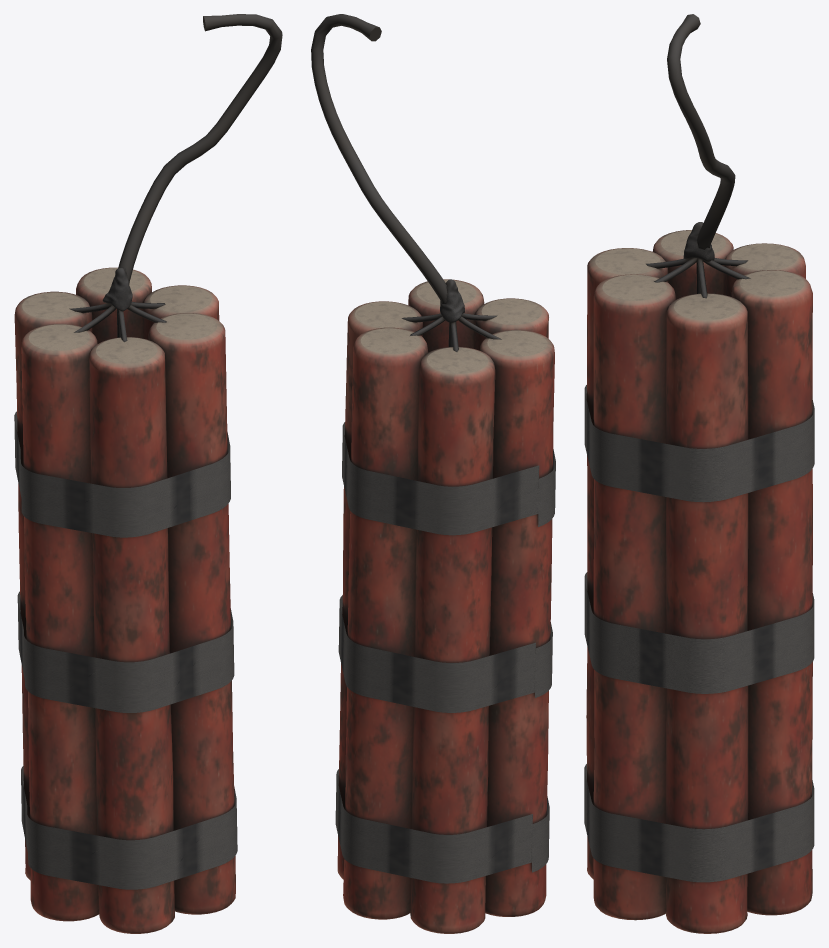
The model's file is dynamite_thrown.glb.
3 renders of one model, left to right at view 1: azimuth 30°, elevation 25°; view 2: azimuth 150°, elevation 25°; view 3: azimuth 270°, elevation 25°, orthographic. The views are drawn at different scales.
Visible parts, largest first — view 1: thrown_dynamite; view 2: thrown_dynamite; view 3: thrown_dynamite.
Part boxes in pixels (x1,y1,x2,y2): thrown_dynamite: [14, 14, 282, 933]; thrown_dynamite: [311, 14, 555, 933]; thrown_dynamite: [584, 14, 814, 933].
Bounding box in the file's own units: 0.0847 × 0.28 × 0.0639.
Materials: 1 (1 with a texture image).
